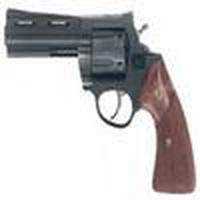gun: (5, 8, 200, 193)
